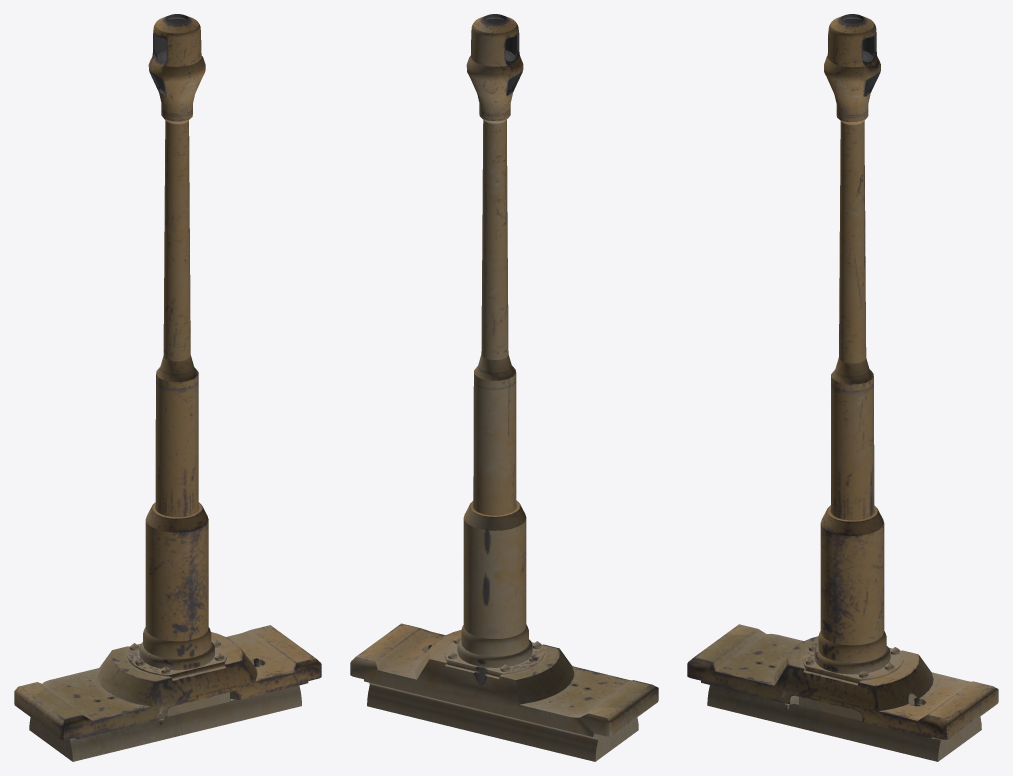
File: Gun_01.glb
3 renders of one model, left to right at view 1: azimuth 30°, elevation 25°; view 2: azimuth 150°, elevation 25°; view 3: azimuth 330°, elevation 25°, orthographic.
Visible parts, largest first — view 1: set_0_group_0; view 2: set_0_group_0; view 3: set_0_group_0.
Boxes of the visible parts, <box> form: set_0_group_0: <box>14,14,321,761</box>; set_0_group_0: <box>350,14,658,761</box>; set_0_group_0: <box>687,14,998,761</box>.
Bounding box in the file's own units: 1.59 × 4.08 × 0.5607.
1 material, 1 textured.
